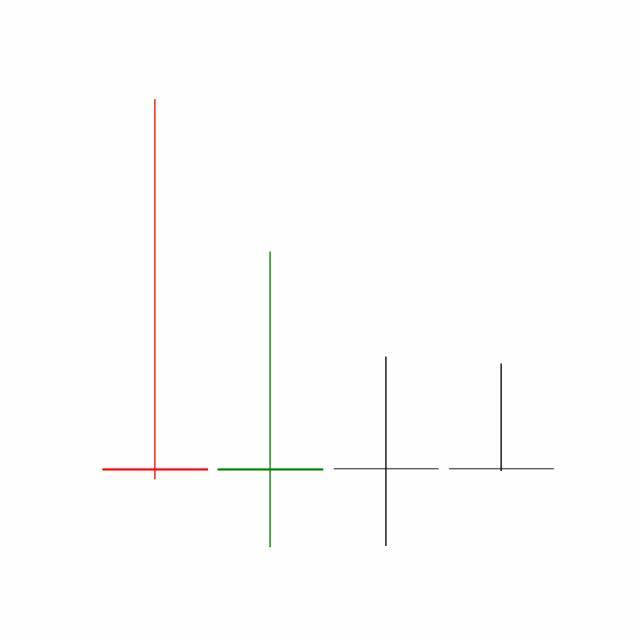Gravestone Doji: (444, 363, 560, 473)
